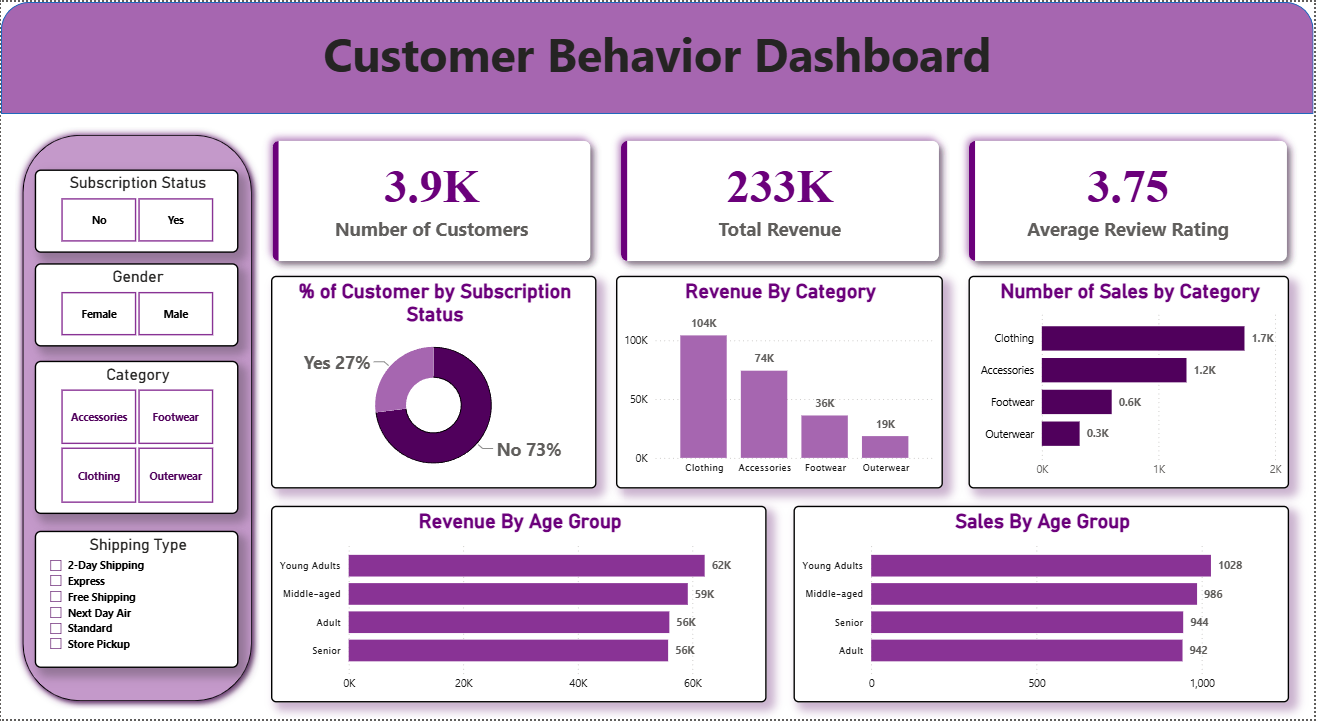

This screenshot's page, from the dashboard's own definition file:
{"tool":"powerbi","page":{"name":"Page 1","canvas":[1500,820],"ordinal":0},"visuals":[{"type":"cardVisual","fields":{"Data":["customer_behavior customer.Number of Customers","Sum(customer_behavior customer.purchase_amount)","Avg(customer_behavior customer.review_rating)"]},"box":[280,128,1220,198],"z":0},{"type":"shape","box":[0,0,1500,128],"z":1000},{"type":"textbox","box":[0,16.7,1500,96.7],"z":2000},{"type":"donutChart","title":"% of Customer by Subscription Status","fields":{"Category":["customer_behavior customer.subscription_status"],"Y":["CountNonNull(customer_behavior customer.customer_id)"]},"box":[308.3,313.3,371.7,243.3],"z":3000},{"type":"clusteredColumnChart","title":"Revenue By Category","fields":{"Category":["customer_behavior customer.category"],"Y":["Sum(customer_behavior customer.purchase_amount)"]},"box":[703.3,313.3,373.3,243.3],"z":4000},{"type":"clusteredBarChart","title":"Number of Sales by Category","fields":{"Y":["CountNonNull(customer_behavior customer.customer_id)"],"Category":["customer_behavior customer.category"]},"box":[1105,313.3,366.7,243.3],"z":5000},{"type":"shape","box":[15,143.3,280,665],"z":6000},{"type":"slicer","title":"Subscription Status","fields":{"Values":["customer_behavior customer.subscription_status"]},"box":[38.8,191.2,232.5,95],"z":7000},{"type":"slicer","title":"Gender","fields":{"Values":["customer_behavior customer.gender"]},"box":[38.8,298.8,232.5,95],"z":8000},{"type":"slicer","title":"Category","fields":{"Values":["customer_behavior customer.category"]},"box":[38.8,410,232.5,175],"z":9000},{"type":"slicer","title":"Shipping Type","fields":{"Values":["customer_behavior customer.shipping_type"]},"box":[38.6,604.3,232.9,157.1],"z":10000},{"type":"barChart","title":"Revenue By Age Group","fields":{"Category":["customer_behavior customer.age_group"],"Y":["Sum(customer_behavior customer.purchase_amount)"]},"box":[308.8,575,566.2,225],"z":10001},{"type":"barChart","title":"Sales By Age Group","fields":{"Category":["customer_behavior customer.age_group"],"Y":["Count(customer_behavior customer.customer_id)"]},"box":[905,575,566.2,225],"z":10002}]}

Visuals, with their boxes in screenshot pixels (x1, y1, x2, y2), scaled from the page's 1500x820 canvas onto the 1317x721 screenshot:
cardVisual - customer_behavior customer.Number of Customers x Sum(customer_behavior customer.purchase_amount): 246,113,1316,287
shape: 0,0,1316,113
textbox: 0,15,1316,100
"% of Customer by Subscription Status" donutChart: 271,275,597,489
"Revenue By Category" clusteredColumnChart: 617,275,945,489
"Number of Sales by Category" clusteredBarChart: 970,275,1292,489
shape: 13,126,259,711
"Subscription Status" slicer: 34,168,238,252
"Gender" slicer: 34,263,238,346
"Category" slicer: 34,360,238,514
"Shipping Type" slicer: 34,531,238,669
"Revenue By Age Group" barChart: 271,506,768,703
"Sales By Age Group" barChart: 795,506,1292,703
